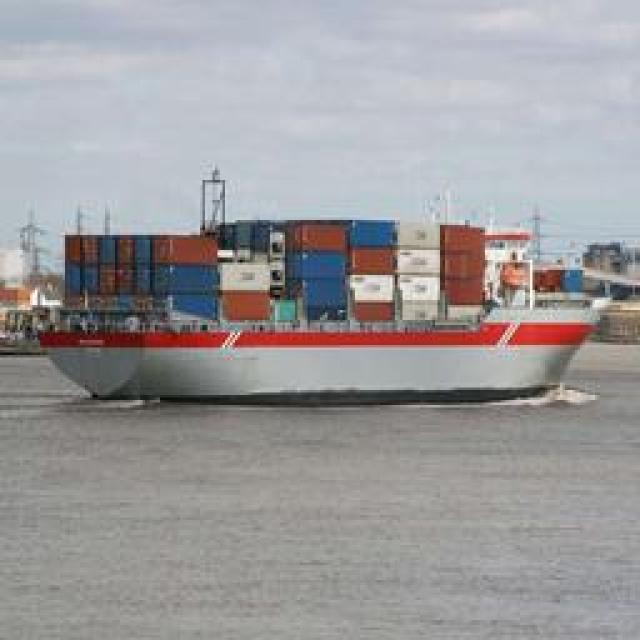CIV_Ship: (30, 200, 608, 408)
